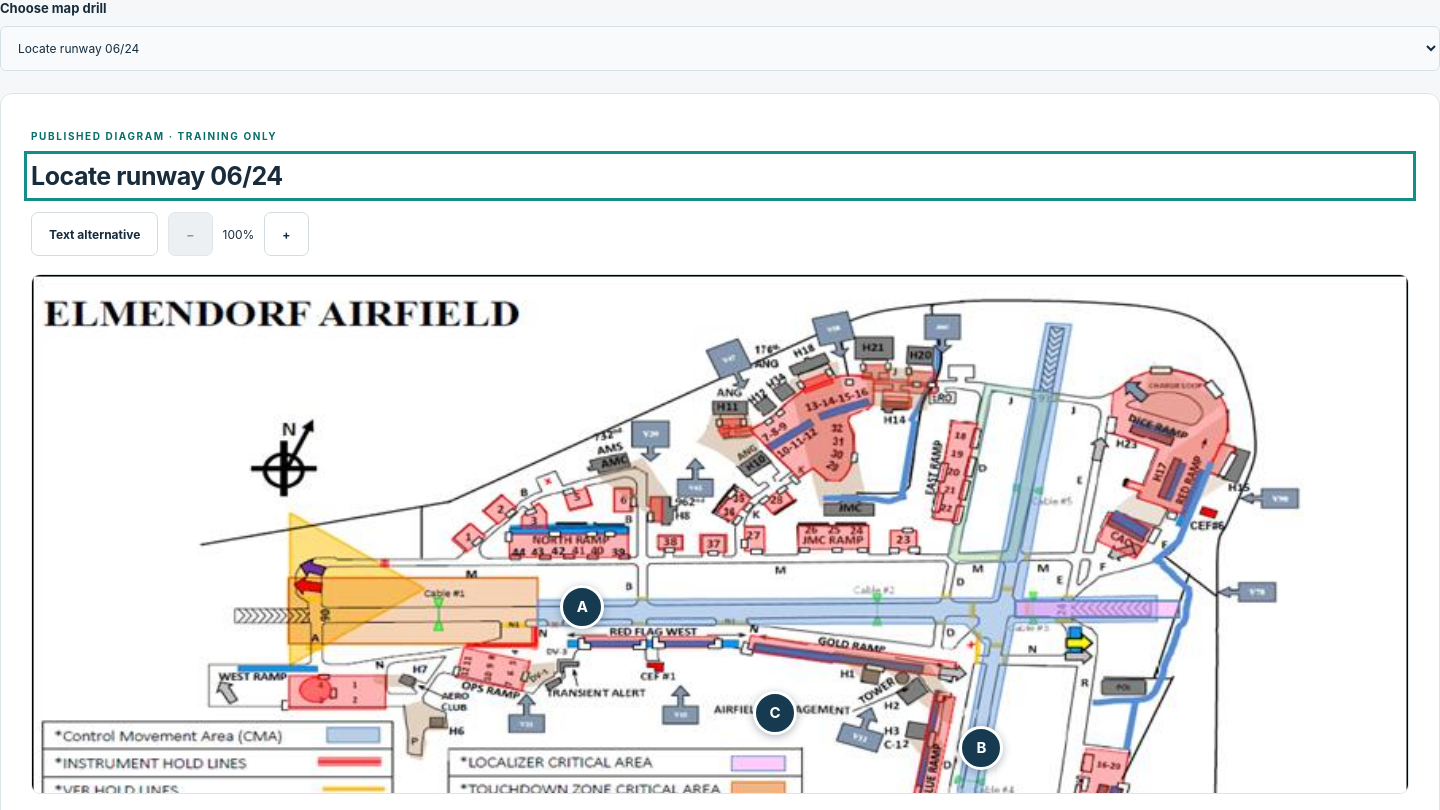
Test: crossing sequence rejects premature crossing
Select "Sequence a simulated runway crossing" in the dropdown labelled "Choose map drill": (720, 48) [0,26,1439,71]
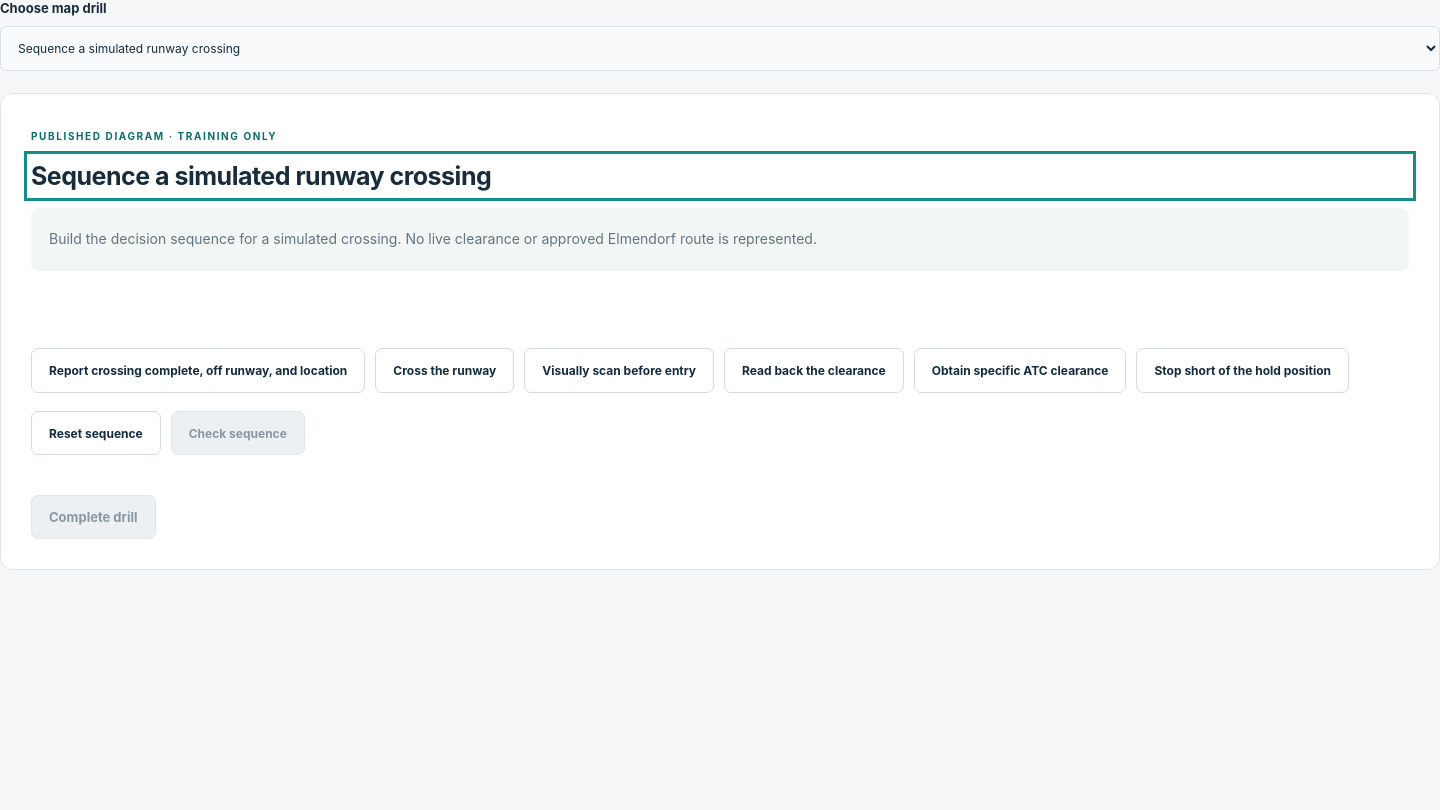
Click the button with aria-label "Add step: Cross the runway": (445, 370) [375,348,514,393]
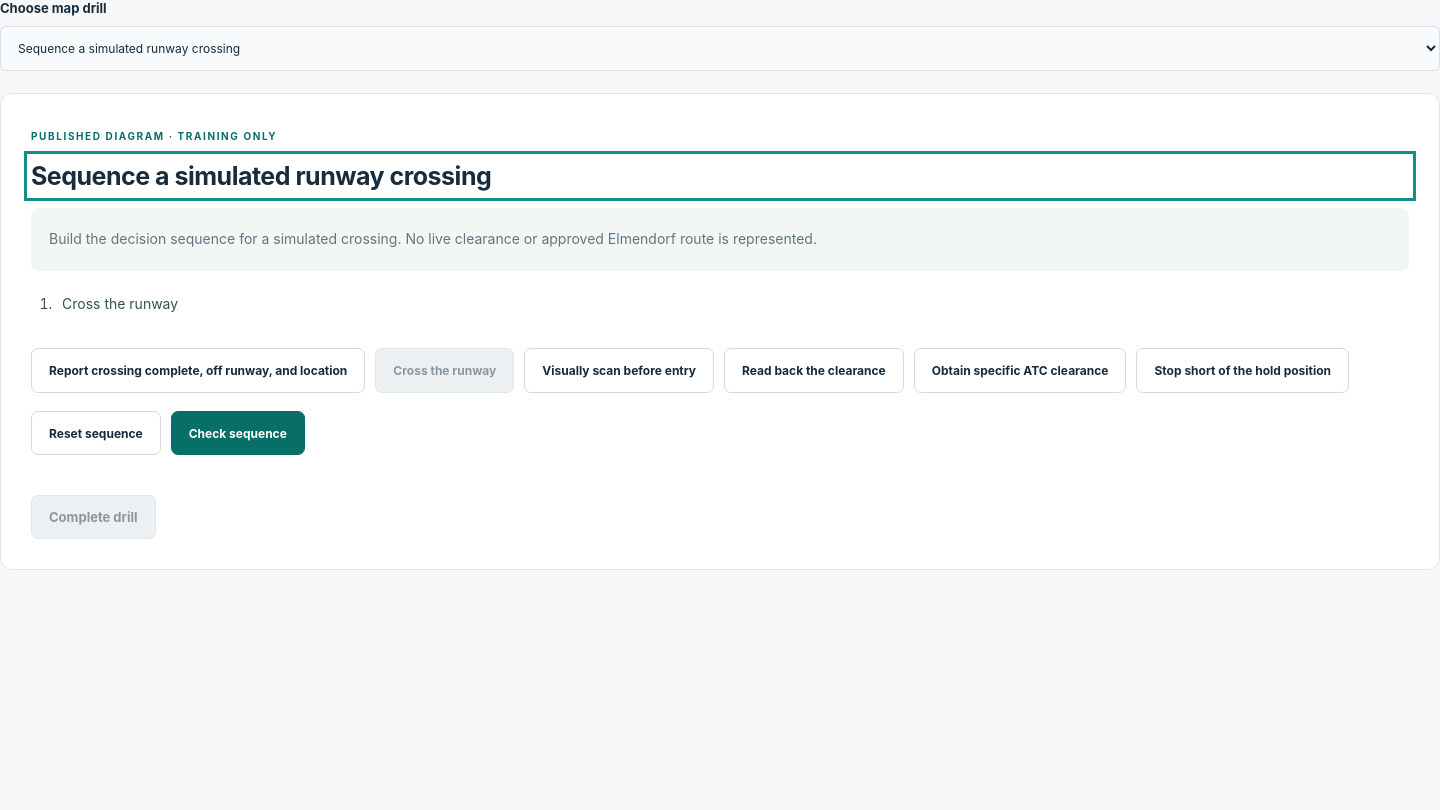
Click the button "Check sequence": (238, 433) [171,411,305,455]
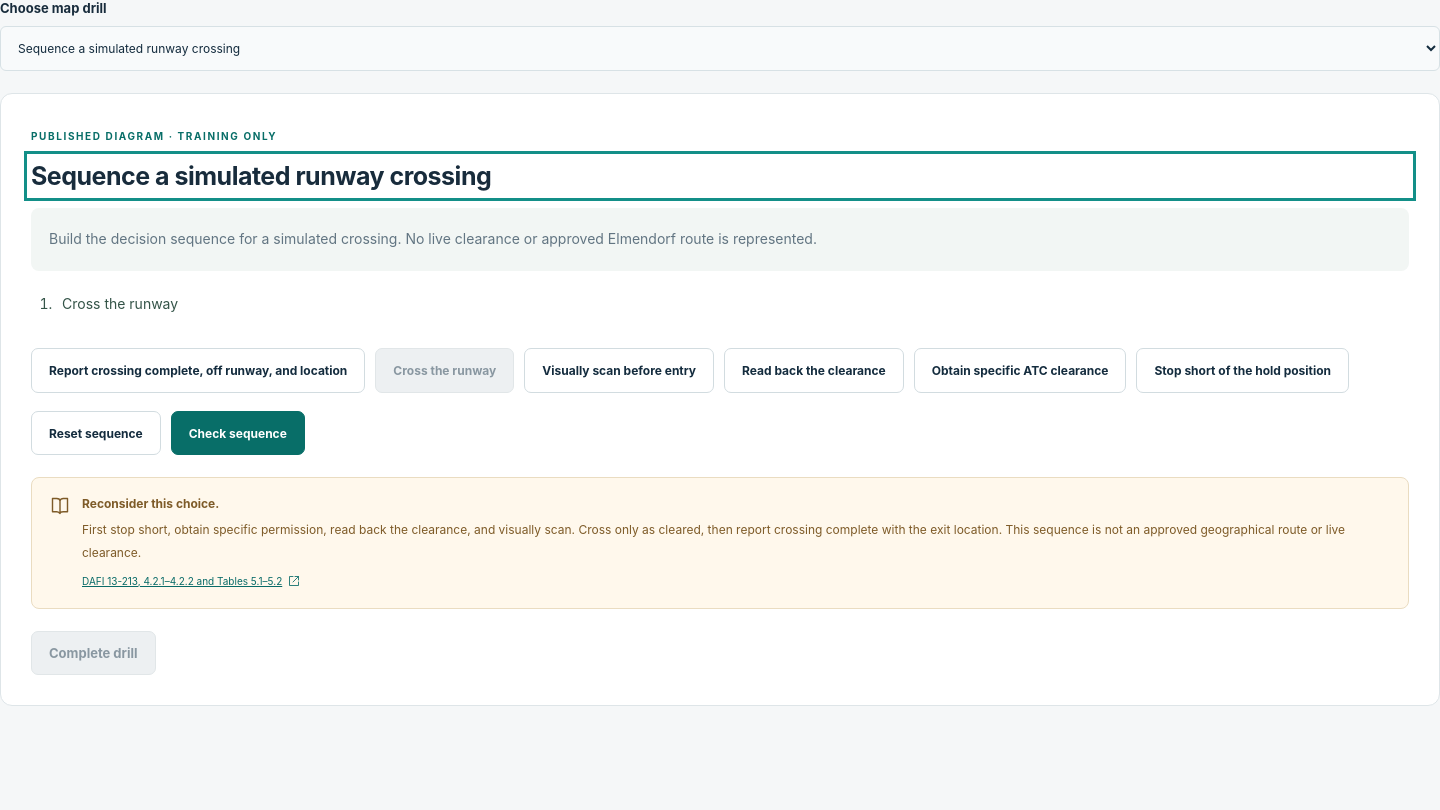
Expected: the button "Complete drill" is disabled, [31,631,156,675]
Expected: the message shows "Reconsider", [82,496,219,511]
